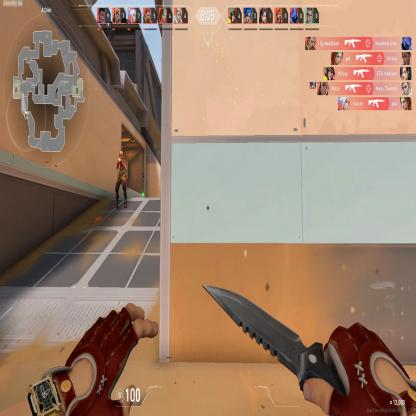enemy: (113, 148, 128, 211)
